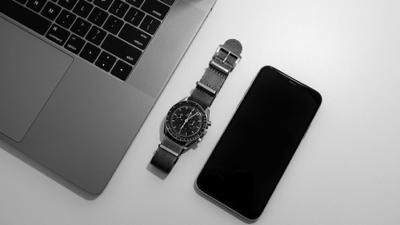cell-phone: (192, 61, 326, 225)
